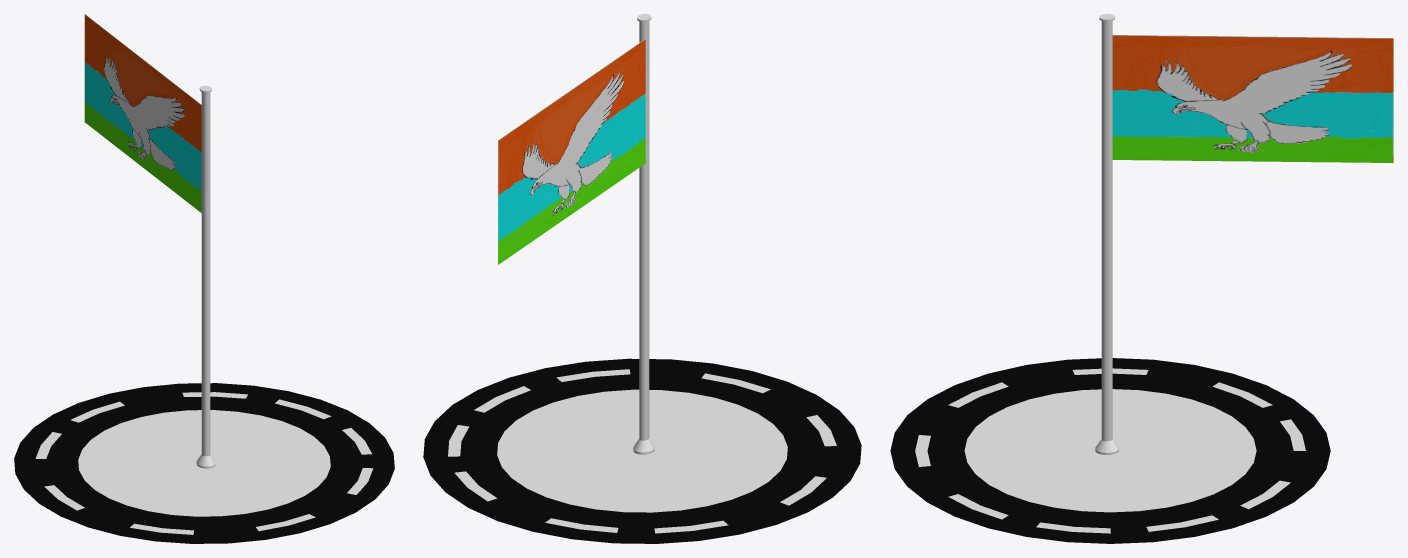
The model's file is el_celebracion_boulevard_roundabout.fbx.
3 renders of one model, left to right at view 1: azimuth 30°, elevation 25°; view 2: azimuth 150°, elevation 25°; view 3: azimuth 270°, elevation 25°, orthographic. The views are drawn at different scales.
Visible parts, largest first — view 1: Circle, Plane, Cylinder; view 2: Circle, Plane, Cylinder; view 3: Circle, Plane, Cylinder.
Boxes of the visible parts, x1,y1,x2,y2 form: Circle: (14,383,394,543); Plane: (84,14,201,212); Cylinder: (196,85,215,468); Circle: (423,358,861,543); Plane: (498,39,645,264); Cylinder: (633,14,654,454); Circle: (890,358,1330,543); Plane: (1112,35,1393,162); Cylinder: (1095,14,1118,454).
Size of the model in its own units: 1000 by 1092 by 1143.
